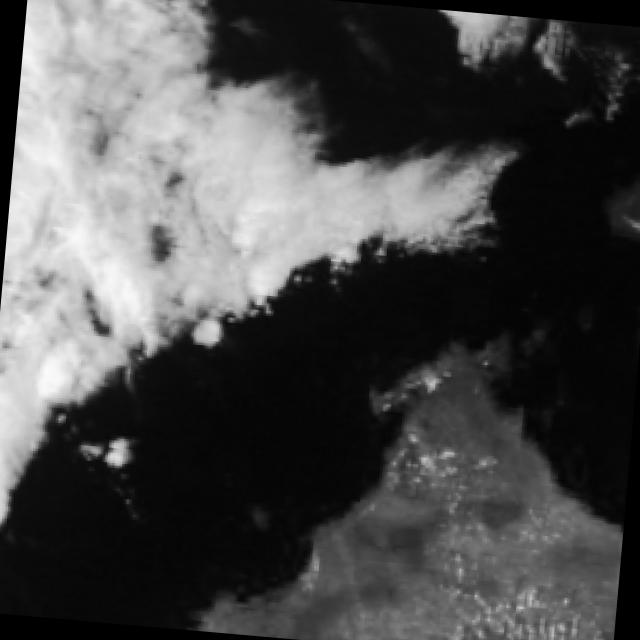CB: (115, 108, 290, 302), (11, 0, 168, 206), (0, 199, 129, 386)
